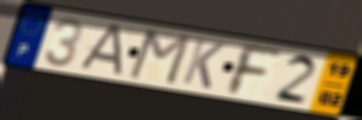2: (270, 54, 321, 107)
3: (44, 17, 85, 68)
A: (74, 23, 125, 78)
F: (226, 41, 285, 98)
K: (179, 37, 228, 92)
M: (125, 28, 194, 87)
